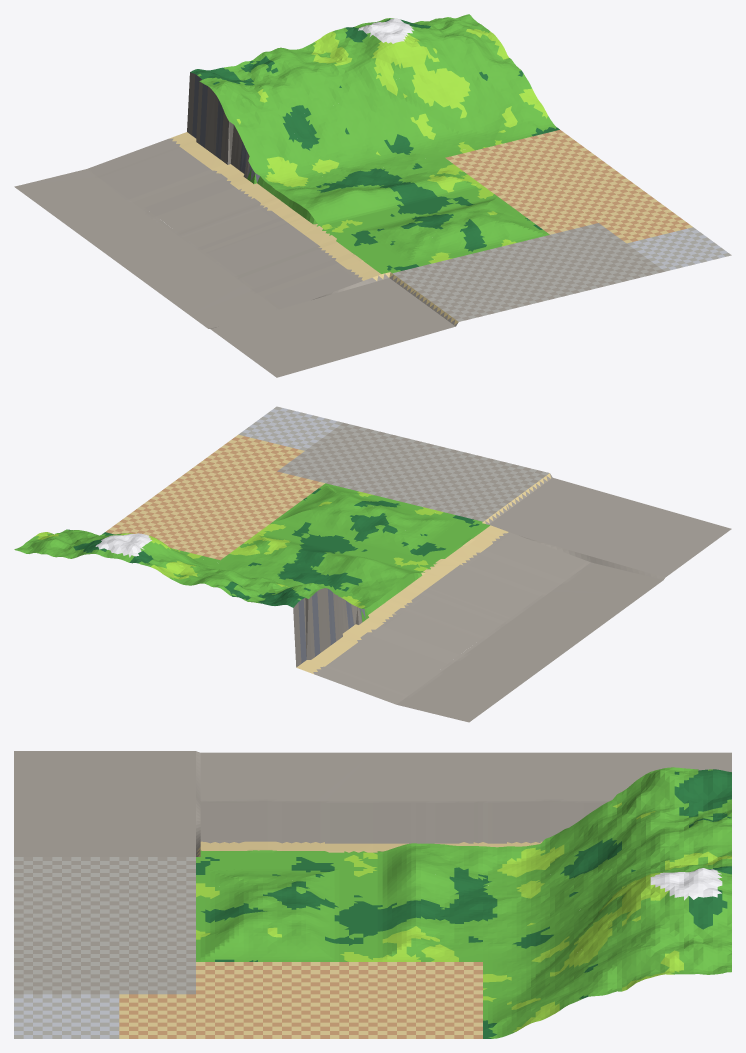
The model's file is Terrain_NW.fbx.
The picture shows the model from 3 angles, top to bottom: view 1: azimuth 30°, elevation 25°; view 2: azimuth 150°, elevation 25°; view 3: azimuth 270°, elevation 25°; orthographic projection. The views are drawn at different scales.
Visible parts, largest first — view 1: Chunk_2_11, Chunk_4_10, Chunk_5_10, Chunk_2_10, Chunk_3_10, Chunk_4_11, Chunk_3_11, Chunk_3_7, Chunk_2_9, Chunk_1_10, Chunk_1_9, Chunk_1_11 (+24 smaller); view 2: Chunk_2_11, Chunk_3_8, Chunk_1_8, Chunk_1_11, Chunk_1_9, Chunk_1_10, Chunk_1_7, Chunk_0_7, Chunk_2_9, Chunk_2_8, Chunk_2_6, Chunk_0_6 (+21 smaller); view 3: Chunk_5_11, Chunk_4_8, Chunk_3_9, Chunk_4_7, Chunk_4_9, Chunk_3_10, Chunk_4_6, Chunk_5_7, Chunk_0_10, Chunk_0_8, Chunk_0_9, Chunk_3_6 (+23 smaller).
Boxes of the visible parts, box(x1,y1,x2,y2) form: Chunk_2_11: box(166, 63, 284, 171); Chunk_4_10: box(361, 69, 480, 162); Chunk_5_10: box(437, 60, 556, 145); Chunk_2_10: box(210, 116, 328, 203); Chunk_3_10: box(286, 96, 404, 181); Chunk_4_11: box(317, 18, 436, 95); Chunk_3_11: box(242, 40, 360, 116); Chunk_3_7: box(417, 218, 535, 278); Chunk_2_9: box(253, 181, 372, 235); Chunk_1_10: box(134, 172, 252, 231); Chunk_1_9: box(178, 204, 296, 263); Chunk_1_11: box(90, 140, 208, 199); Chunk_2_11: box(242, 581, 360, 675); Chunk_3_8: box(297, 497, 416, 557); Chunk_1_8: box(449, 547, 567, 607); Chunk_1_11: box(318, 643, 436, 703); Chunk_1_9: box(405, 580, 524, 639); Chunk_1_10: box(361, 611, 480, 671); Chunk_1_7: box(493, 517, 611, 575); Chunk_0_7: box(569, 539, 687, 594); Chunk_2_9: box(329, 556, 448, 611); Chunk_2_8: box(373, 523, 492, 579); Chunk_2_6: box(461, 462, 579, 517); Chunk_0_6: box(612, 507, 731, 560); Chunk_5_11: box(612, 895, 731, 992); Chunk_4_8: box(253, 924, 372, 988); Chunk_3_9: box(373, 870, 492, 937); Chunk_4_7: box(133, 924, 253, 988); Chunk_4_9: box(373, 930, 492, 988); Chunk_3_10: box(492, 841, 612, 936); Chunk_4_6: box(14, 937, 133, 988); Chunk_5_7: box(133, 988, 253, 1038); Chunk_0_10: box(492, 752, 612, 802); Chunk_0_8: box(253, 752, 372, 802); Chunk_0_9: box(373, 752, 492, 802); Chunk_3_6: box(14, 887, 133, 937).
Size of the model in its own units: 1500 by 266 by 1500.
Materials: 1 (1 with a texture image).
